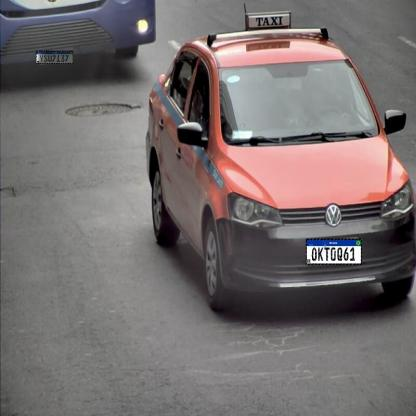PlacaM: (306, 238, 362, 265), (36, 51, 73, 64)
